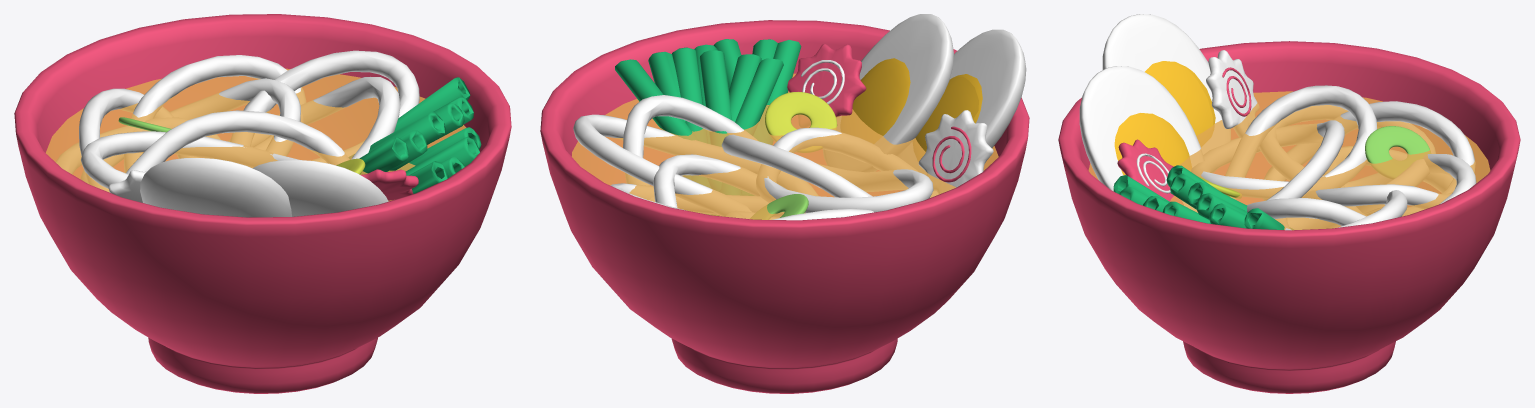
File: ramen.gltf
3 views of the same model, side by side, from view 1: azimuth 30°, elevation 25°; view 2: azimuth 150°, elevation 25°; view 3: azimuth 270°, elevation 25° (orthographic). The views are drawn at different scales.
Visible parts, largest first — view 1: Sphere, Torus Knot 2 x 3, Sphere.001, Cube, NurbsPath.009, Circle, Circle.001; view 2: Sphere, Torus Knot 2 x 3, Cube, Sphere.001, NurbsPath.009, Circle.001, Circle, Circle.002, Circle.003; view 3: Sphere, Torus Knot 2 x 3, Cube, Sphere.001, NurbsPath.009, Circle.001, Circle.003, Circle.
Boxes of the visible parts, left/top/right/bottom form: Sphere: left=14, top=14, right=511, bottom=393; Torus Knot 2 x 3: left=56, top=50, right=419, bottom=191; Sphere.001: left=46, top=68, right=466, bottom=201; Cube: left=140, top=158, right=388, bottom=217; NurbsPath.009: left=349, top=77, right=481, bottom=193; Circle: left=361, top=169, right=418, bottom=200; Circle.001: left=108, top=170, right=146, bottom=202; Sphere: left=540, top=20, right=1029, bottom=393; Torus Knot 2 x 3: left=573, top=95, right=938, bottom=220; Cube: left=823, top=14, right=1026, bottom=174; Sphere.001: left=571, top=73, right=998, bottom=219; NurbsPath.009: left=615, top=39, right=801, bottom=215; Circle.001: left=918, top=110, right=993, bottom=193; Circle: left=787, top=44, right=866, bottom=127; Circle.002: left=765, top=91, right=837, bottom=152; Circle.003: left=750, top=194, right=808, bottom=219; Sphere: left=1058, top=41, right=1520, bottom=393; Torus Knot 2 x 3: left=1191, top=85, right=1476, bottom=230; Cube: left=1079, top=14, right=1230, bottom=212; Sphere.001: left=1088, top=91, right=1490, bottom=230; NurbsPath.009: left=1113, top=165, right=1293, bottom=229; Circle.001: left=1206, top=50, right=1258, bottom=137; Circle.003: left=1365, top=126, right=1430, bottom=178; Circle: left=1117, top=139, right=1183, bottom=204.
Size of the model in its own units: 2.12 by 1.36 by 2.12.
10 materials, 10 textured.
